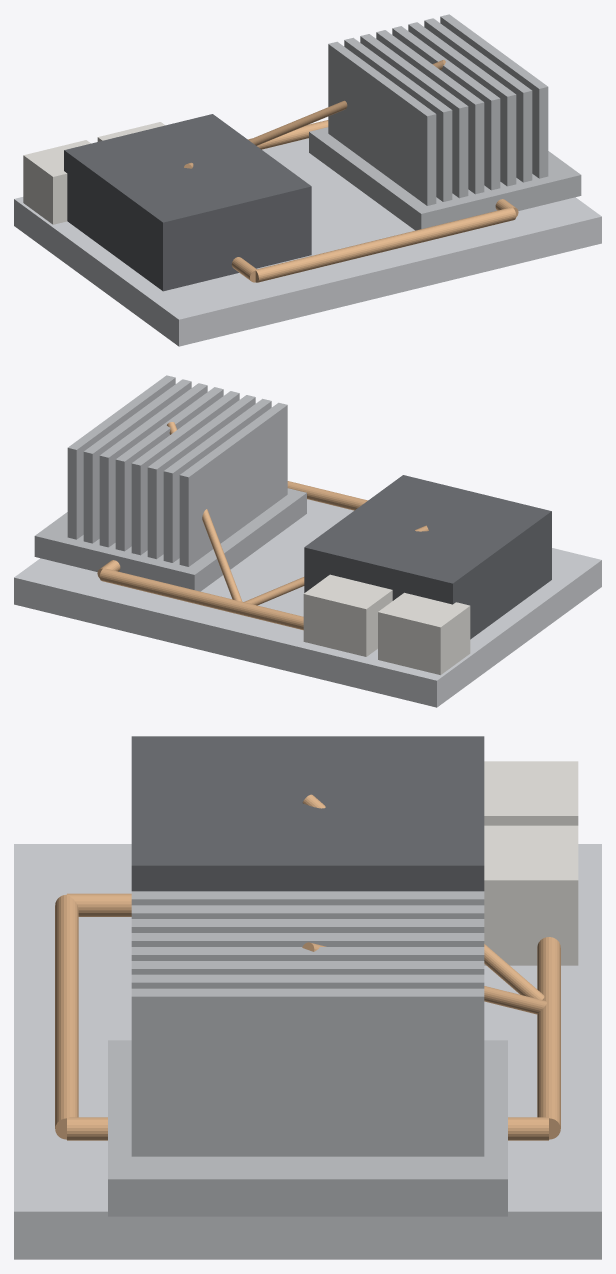
Rendered from hero.glb.
The picture shows the model from 3 angles, top to bottom: view 1: azimuth 30°, elevation 25°; view 2: azimuth 150°, elevation 25°; view 3: azimuth 270°, elevation 25°; orthographic projection. The views are drawn at different scales.
Visible parts, largest first — view 1: heat_sink, assembly_base, heat_source, coolant_loop, module_01, link_coolant_loop__heat_sink; view 2: heat_sink, assembly_base, heat_source, module_01, module_02, coolant_loop, link_coolant_loop__heat_sink, link_coolant_loop__heat_source; view 3: heat_sink, assembly_base, heat_source, coolant_loop, module_02, module_01, link_coolant_loop__heat_source, link_coolant_loop__heat_sink.
Boxes of the visible parts, x1,y1,x2,y2 form: heat_sink: (309,14,581,230); assembly_base: (14,138,601,346); heat_source: (64,114,311,291); coolant_loop: (231,120,518,282); module_01: (23,140,90,224); link_coolant_loop__heat_sink: (249,59,445,145); heat_sink: (34,375,306,591); assembly_base: (14,499,601,707); heat_source: (304,475,551,639); module_01: (378,592,470,675); module_02: (303,574,392,656); coolant_loop: (97,481,367,630); link_coolant_loop__heat_sink: (167,422,242,601); link_coolant_loop__heat_source: (244,525,428,605); heat_sink: (108,891,507,1216); assembly_base: (14,844,601,1259); heat_source: (131,736,484,891); coolant_loop: (55,893,560,1140); module_02: (484,825,578,965); module_01: (484,761,578,825); link_coolant_loop__heat_source: (302,794,544,999); link_coolant_loop__heat_sink: (302,942,546,1014).
Size of the model in its own units: 5 by 1.57 by 3.33.
